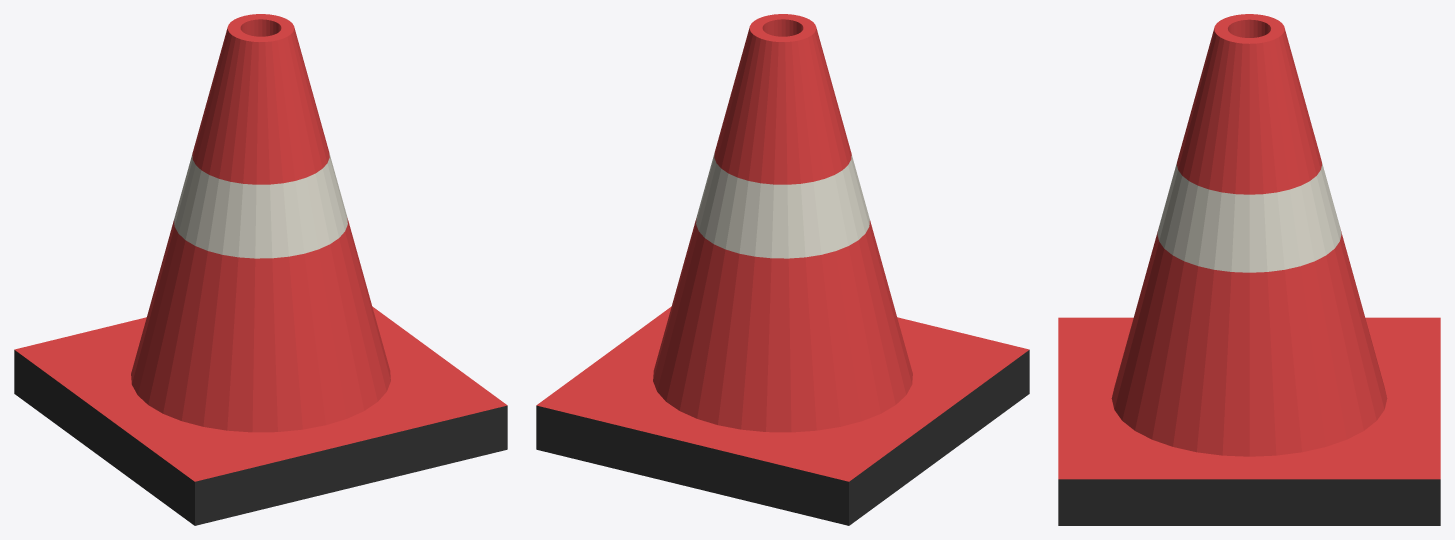
3 renders of one model, left to right at view 1: azimuth 30°, elevation 25°; view 2: azimuth 150°, elevation 25°; view 3: azimuth 270°, elevation 25°, orthographic. The views are drawn at different scales.
Parts seen in each view (by area): view 1: Cone; view 2: Cone; view 3: Cone.
Boxes of the visible parts, box(x1,y1,x2,y2) form: Cone: box(14, 14, 507, 525); Cone: box(536, 14, 1029, 525); Cone: box(1058, 14, 1440, 525).
Size of the model in its own units: 54.45 by 65.45 by 54.45.
